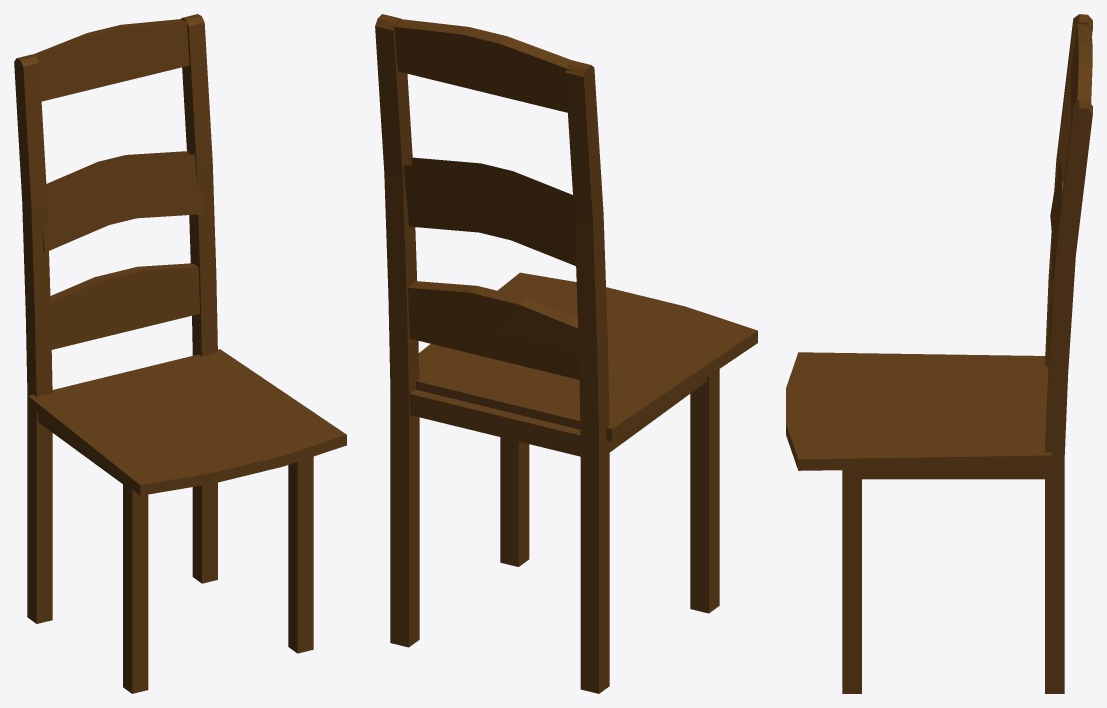
File: low_poly_chair.glb
3 renders of one model, left to right at view 1: azimuth 30°, elevation 25°; view 2: azimuth 150°, elevation 25°; view 3: azimuth 270°, elevation 25°, orthographic. The views are drawn at different scales.
Visible parts, largest first — view 1: chair; view 2: chair; view 3: chair.
Part boxes in pixels (x1,y1,x2,y2): chair: (14,14,346,693); chair: (375,14,757,693); chair: (786,14,1092,693).
Size of the model in its own units: 200 by 517 by 242.
